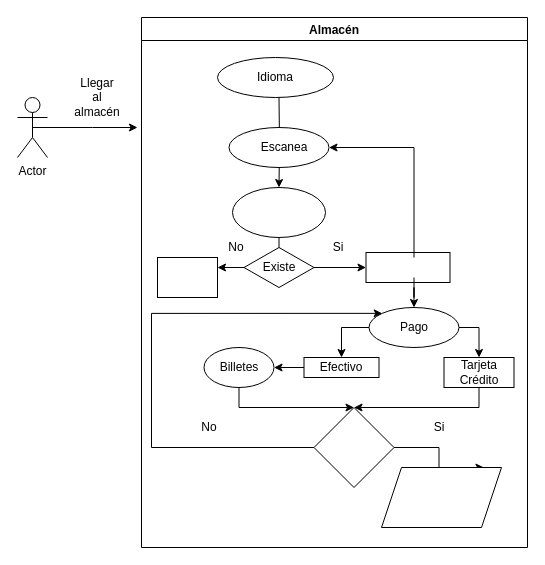
Image size: 545x565. Some labels were removed from this diagram. Each missing label, with the centre of its shape:
"- Cambio - Recibo" goes at pixel 441 497.
"Bloquea" goes at pixel 187 277.
"Buscar" goes at pixel 279 212.
"Confirmación" goes at pixel 353 447.
"Registrar" goes at pixel 407 267.
